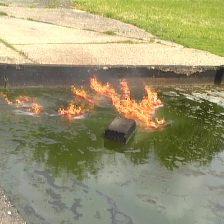fire_h: (90, 74, 166, 129), (59, 103, 86, 118)
fire_l: (71, 86, 91, 101), (16, 96, 31, 104), (2, 93, 11, 105), (32, 103, 41, 113)
